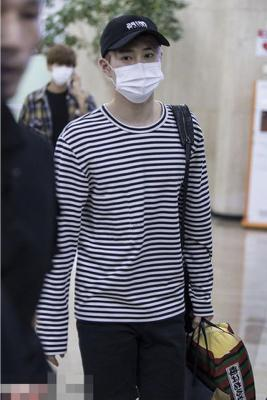with_mask: (109, 45, 161, 104), (52, 62, 73, 88)
without_mask: (0, 2, 41, 97)
